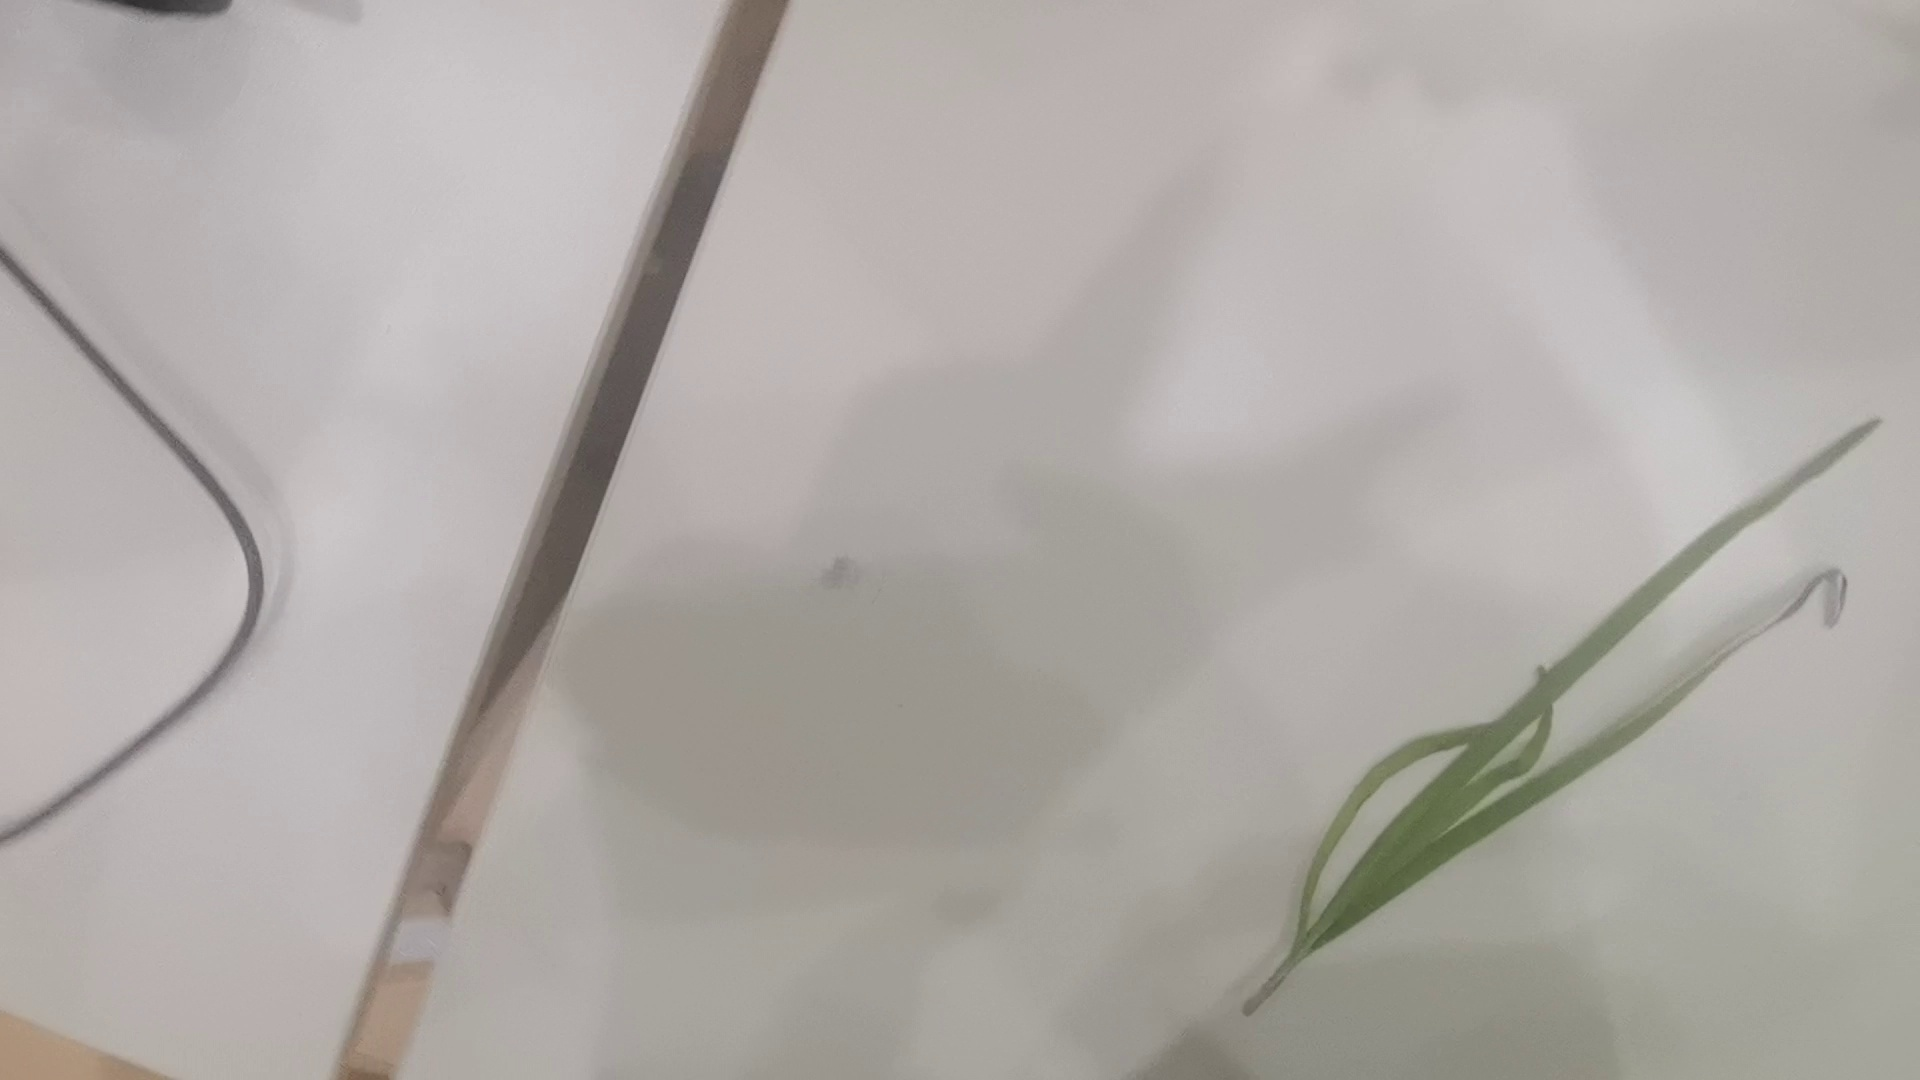chives: (1217, 396, 1884, 1026)
